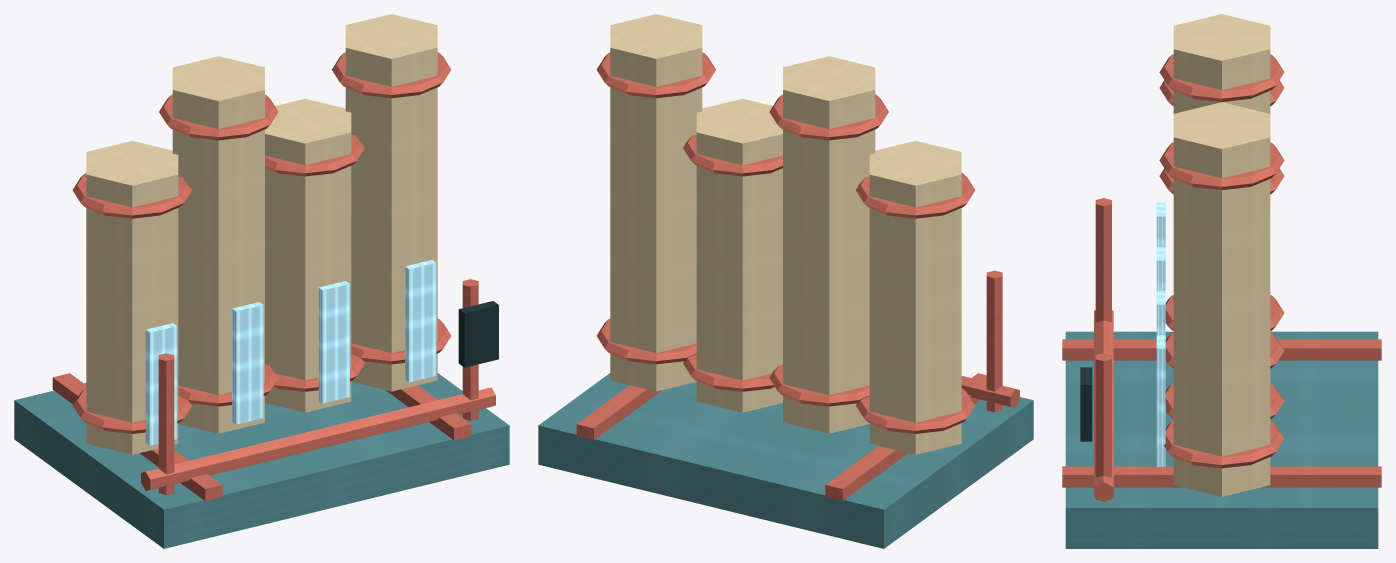
File: atlas100-s078-a04.lod2.glb
3 renders of one model, left to right at view 1: azimuth 30°, elevation 25°; view 2: azimuth 150°, elevation 25°; view 3: azimuth 270°, elevation 25°, orthographic. The views are drawn at different scales.
Parts seen in each view (by area): view 1: atlas100-s078-a04:part-000, atlas100-s078-a04:part-018, atlas100-s078-a04:part-008, atlas100-s078-a04:part-003, atlas100-s078-a04:part-013, atlas100-s078-a04:part-027, atlas100-s078-a04:part-012, atlas100-s078-a04:part-017, atlas100-s078-a04:part-022, atlas100-s078-a04:part-007, atlas100-s078-a04:part-026, atlas100-s078-a04:part-023 (+11 smaller); view 2: atlas100-s078-a04:part-000, atlas100-s078-a04:part-018, atlas100-s078-a04:part-008, atlas100-s078-a04:part-003, atlas100-s078-a04:part-013, atlas100-s078-a04:part-023, atlas100-s078-a04:part-001, atlas100-s078-a04:part-002, atlas100-s078-a04:part-020, atlas100-s078-a04:part-010, atlas100-s078-a04:part-005, atlas100-s078-a04:part-004 (+5 smaller); view 3: atlas100-s078-a04:part-000, atlas100-s078-a04:part-018, atlas100-s078-a04:part-008, atlas100-s078-a04:part-002, atlas100-s078-a04:part-001, atlas100-s078-a04:part-025, atlas100-s078-a04:part-023, atlas100-s078-a04:part-010, atlas100-s078-a04:part-020, atlas100-s078-a04:part-019, atlas100-s078-a04:part-027, atlas100-s078-a04:part-022 (+9 smaller).
Boxes of the visible parts, x1,y1,x2,y2 form: atlas100-s078-a04:part-000: (14,373,509,548); atlas100-s078-a04:part-018: (345,14,437,391); atlas100-s078-a04:part-008: (172,56,264,433); atlas100-s078-a04:part-003: (86,141,178,454); atlas100-s078-a04:part-013: (265,98,351,412); atlas100-s078-a04:part-027: (141,387,495,490); atlas100-s078-a04:part-012: (232,302,263,424); atlas100-s078-a04:part-017: (318,281,349,403); atlas100-s078-a04:part-022: (405,260,436,382); atlas100-s078-a04:part-007: (145,323,177,445); atlas100-s078-a04:part-026: (458,301,498,367); atlas100-s078-a04:part-023: (158,353,174,494); atlas100-s078-a04:part-000: (538,373,1033,548); atlas100-s078-a04:part-018: (610,14,702,391); atlas100-s078-a04:part-008: (783,56,875,433); atlas100-s078-a04:part-003: (869,141,961,454); atlas100-s078-a04:part-013: (696,98,782,412); atlas100-s078-a04:part-023: (986,270,1002,412); atlas100-s078-a04:part-001: (825,373,986,500); atlas100-s078-a04:part-002: (576,385,661,440); atlas100-s078-a04:part-020: (596,52,715,98); atlas100-s078-a04:part-010: (769,94,888,140); atlas100-s078-a04:part-005: (856,173,975,218); atlas100-s078-a04:part-004: (856,388,975,433); atlas100-s078-a04:part-000: (1065,331,1378,548); atlas100-s078-a04:part-018: (1173,102,1270,496); atlas100-s078-a04:part-008: (1173,14,1270,113); atlas100-s078-a04:part-002: (1062,466,1381,487); atlas100-s078-a04:part-001: (1062,339,1381,360); atlas100-s078-a04:part-025: (1095,353,1111,500); atlas100-s078-a04:part-023: (1095,198,1111,322); atlas100-s078-a04:part-010: (1159,54,1284,101); atlas100-s078-a04:part-020: (1159,142,1284,190); atlas100-s078-a04:part-019: (1164,420,1284,468); atlas100-s078-a04:part-027: (1094,310,1113,502); atlas100-s078-a04:part-022: (1156,335,1165,466).
Bounding box in the file's own units: 2.52 × 2.55 × 1.84.
Materials: 5 (5 with a texture image).
